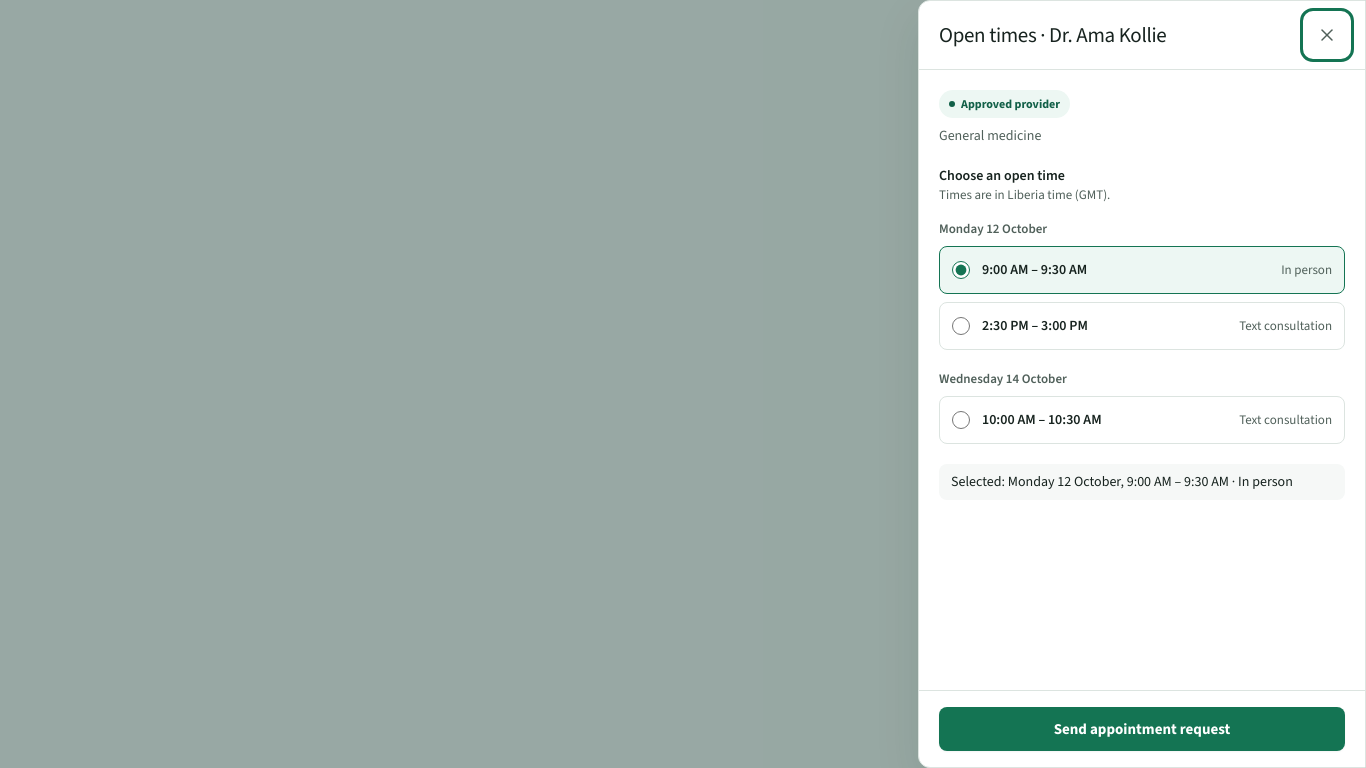
it: AvailabilityDrawer › refreshes the times when the chosen one was just taken
Click the button "Send appointment request" at (1142, 729), box [939, 707, 1345, 751]
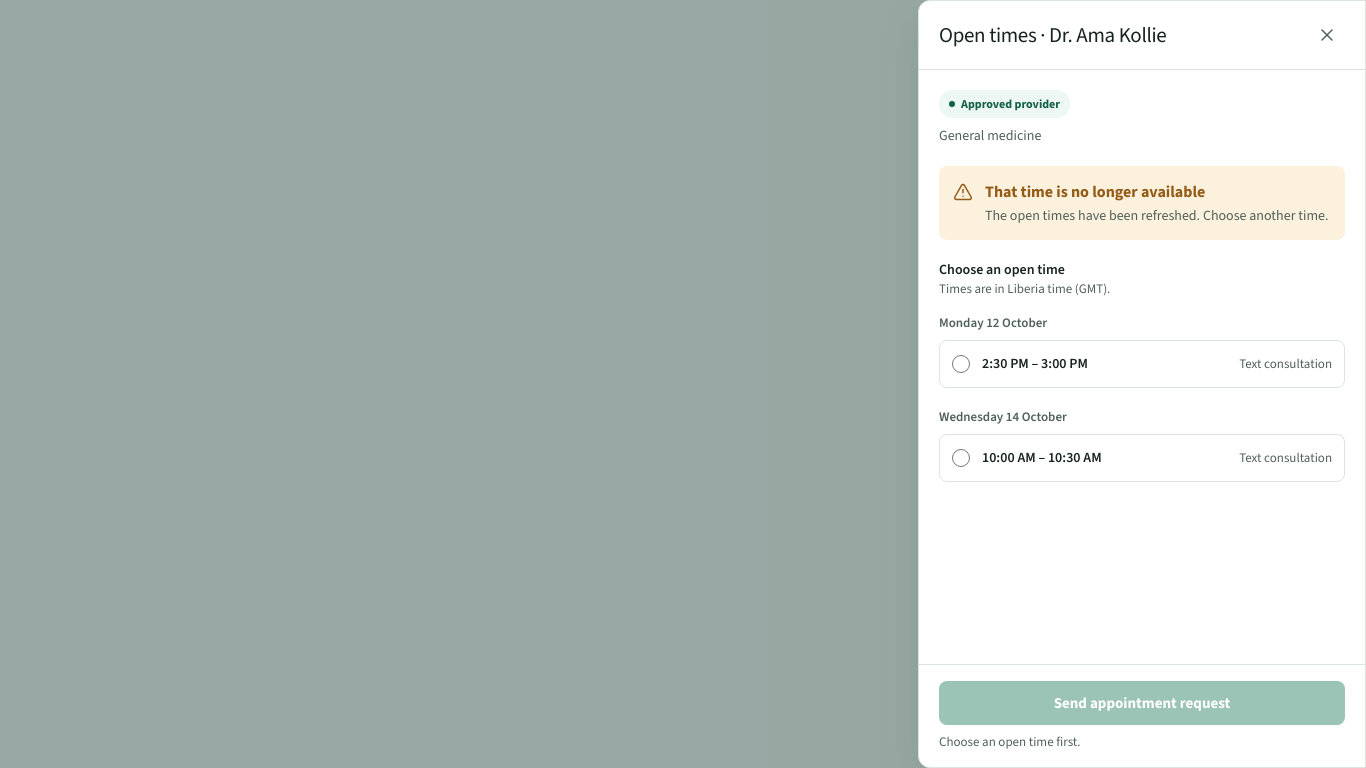
Check: the message shows "That time is no longer available", box [985, 181, 1205, 202]
Check: the number of radio buttons is 2, box [952, 355, 970, 373]; [952, 449, 970, 467]
Check: the button "Send appointment request" is disabled, box [939, 681, 1345, 725]
